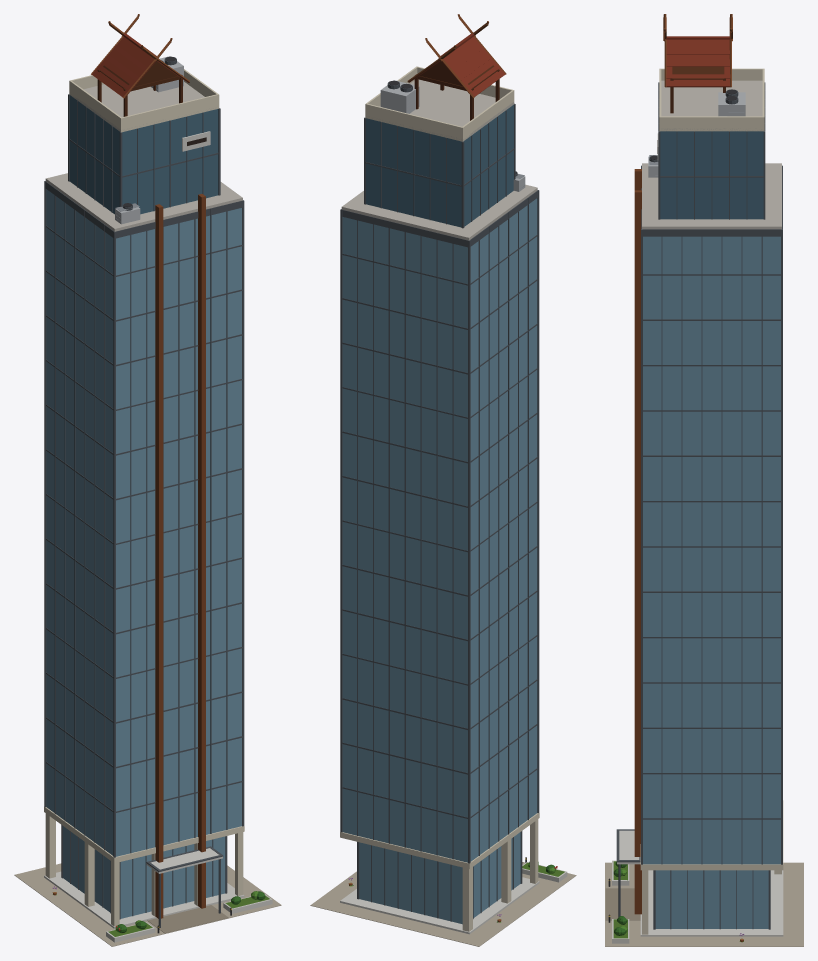
File: shop_4.glb
3 renders of one model, left to right at view 1: azimuth 30°, elevation 25°; view 2: azimuth 150°, elevation 25°; view 3: azimuth 270°, elevation 25°, orthographic.
Visible parts, largest first — view 1: body; view 2: body; view 3: body.
Boxes of the visible parts, x1,y1,x2,y2 form: body: (14, 14, 281, 946); body: (310, 14, 576, 946); body: (605, 14, 803, 946).
Bounding box in the file's own units: 15.9 × 77.7 × 15.9.
